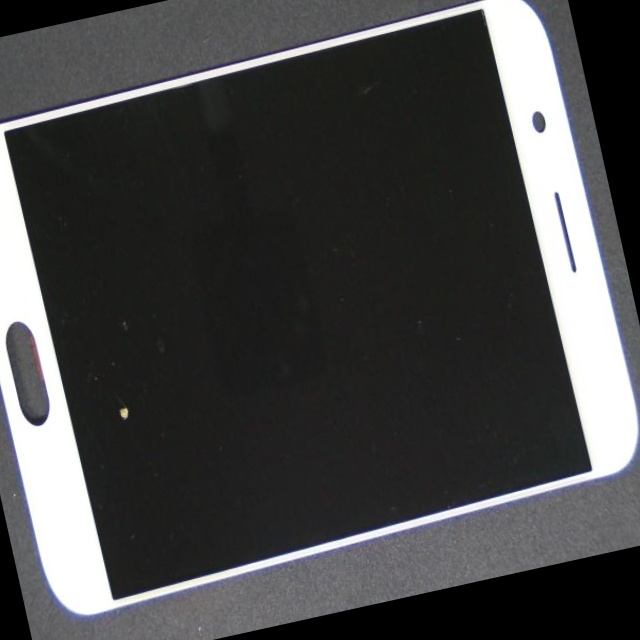stain: (12, 161, 213, 578)
